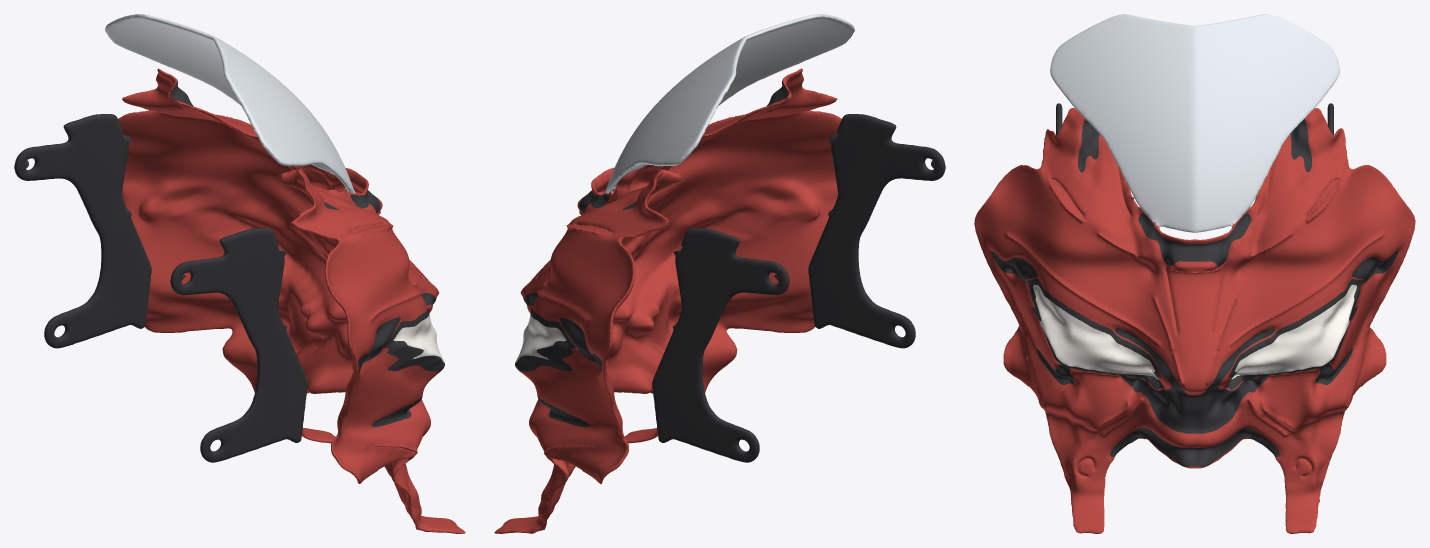
File: naked_5.glb
The picture shows the model from 3 angles, left to right: view 1: azimuth 30°, elevation 25°; view 2: azimuth 150°, elevation 25°; view 3: azimuth 270°, elevation 25°; orthographic projection. The views are drawn at different scales.
Visible parts, largest first — view 1: naked_5; view 2: naked_5; view 3: naked_5.
Part boxes in pixels (x1,y1,x2,y2): naked_5: [14, 14, 465, 533]; naked_5: [494, 14, 945, 533]; naked_5: [974, 14, 1415, 533].
Size of the model in its own units: 0.3219 by 0.4468 by 0.4161.
